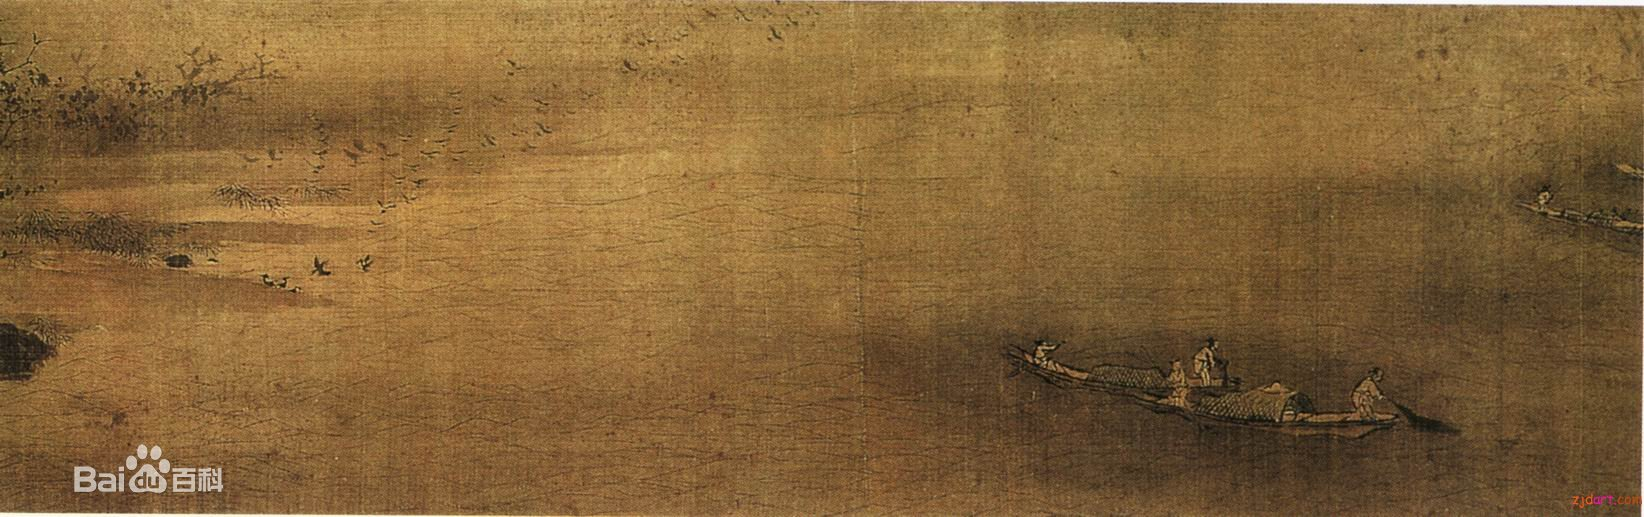boat: (1001, 338, 1397, 440), (1511, 180, 1644, 238), (1618, 150, 1644, 175)
man: (1351, 362, 1383, 420), (1192, 333, 1219, 385), (1165, 354, 1188, 407), (1030, 335, 1063, 368), (1528, 185, 1553, 212)
river: (302, 42, 1629, 517)
